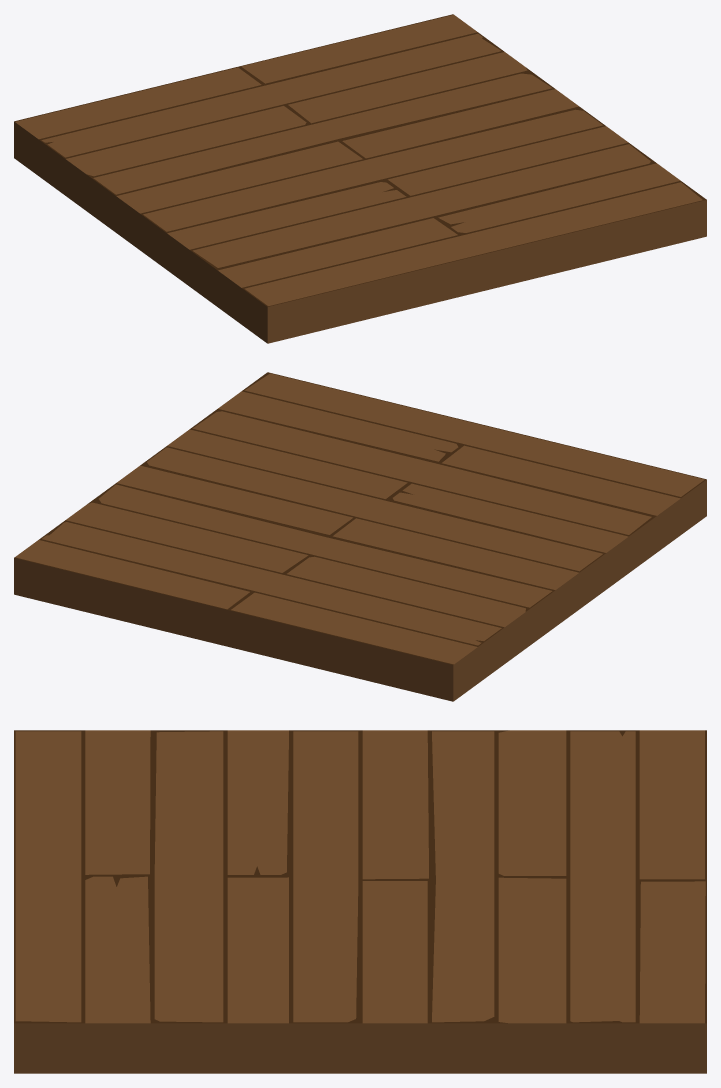
The model's file is Floor_03.glb.
The picture shows the model from 3 angles, top to bottom: view 1: azimuth 30°, elevation 25°; view 2: azimuth 150°, elevation 25°; view 3: azimuth 270°, elevation 25°; orthographic projection. The views are drawn at different scales.
Parts seen in each view (by area): view 1: Floor_03_LOD0; view 2: Floor_03_LOD0; view 3: Floor_03_LOD0.
Part boxes in pixels (x1,y1,x2,y2): Floor_03_LOD0: (14,14,706,343); Floor_03_LOD0: (14,372,706,701); Floor_03_LOD0: (14,730,706,1073).
Size of what is drawn, in the model's own units: 2.5 by 0.2 by 2.5.
Materials: 1 (1 with a texture image).
